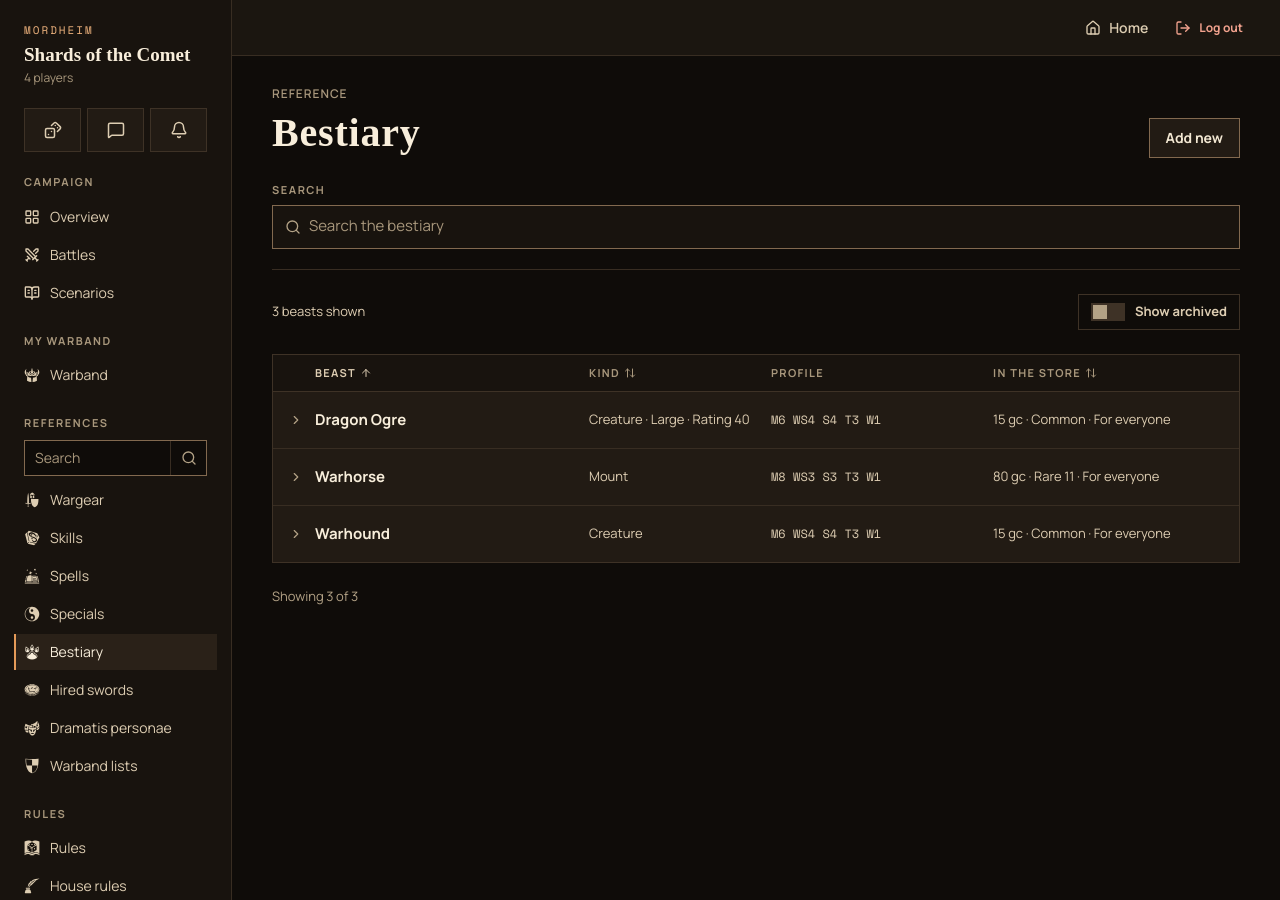
Test case: A beast's rating › shows in its row and its open row when it has one
This screenshot has width=1280, height=900.
Click the button that starts with "Dragon Ogre".
click(361, 419)  # box x1=273 y1=392 x2=1239 y2=448
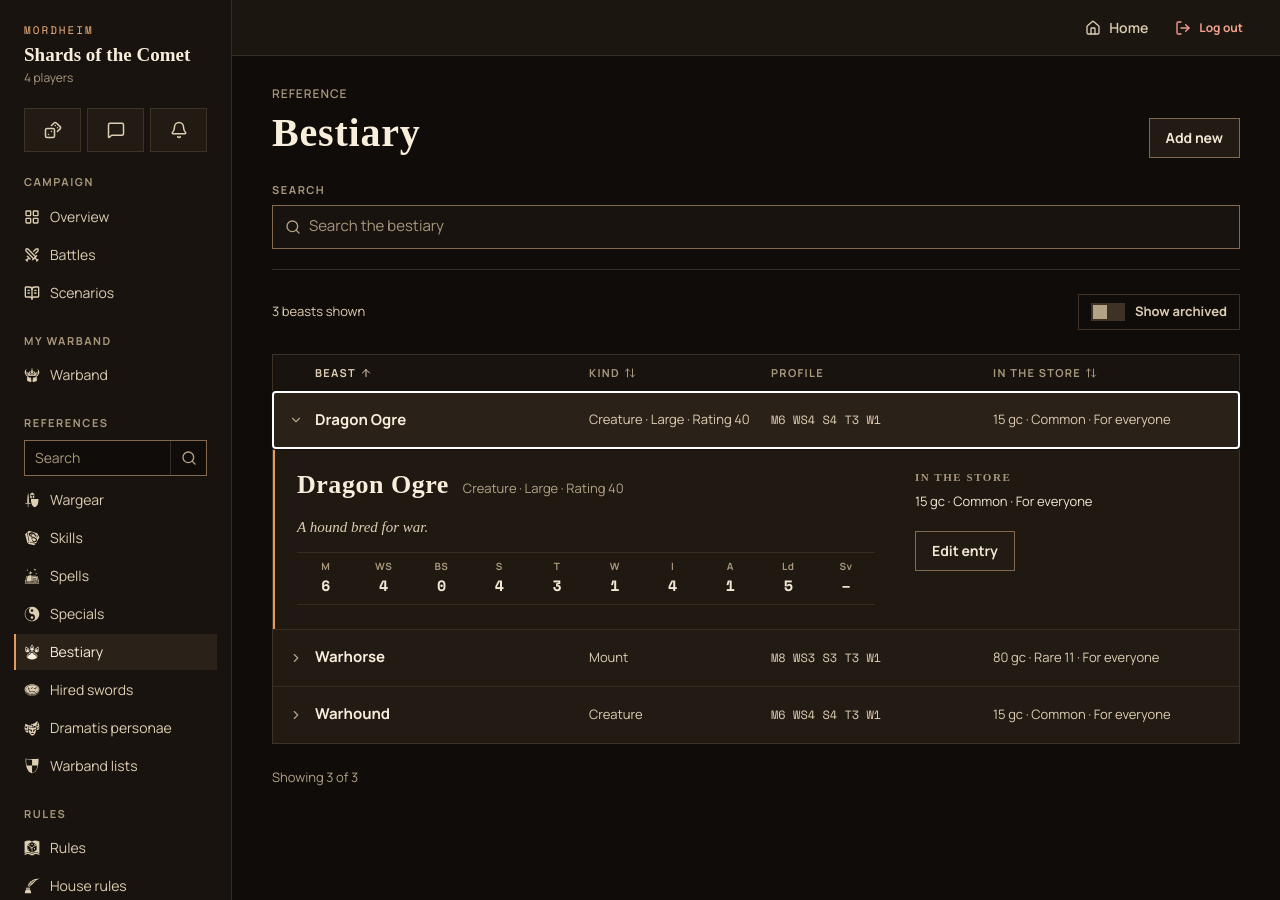
Expected: the text "Creature · Large · Rating 40" is shown 2 times, x1=589 y1=410 x2=759 y2=430; x1=463 y1=479 x2=624 y2=498
Now the heading "Dragon Ogre" is shown, box x1=297 y1=469 x2=449 y2=502
